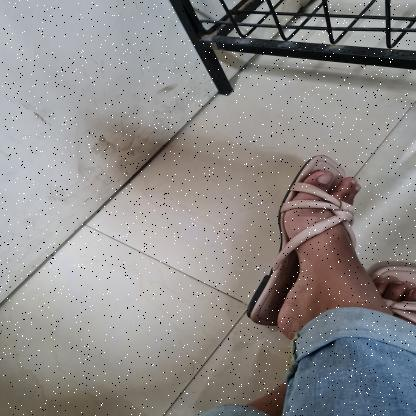leg: (237, 142, 403, 340)
